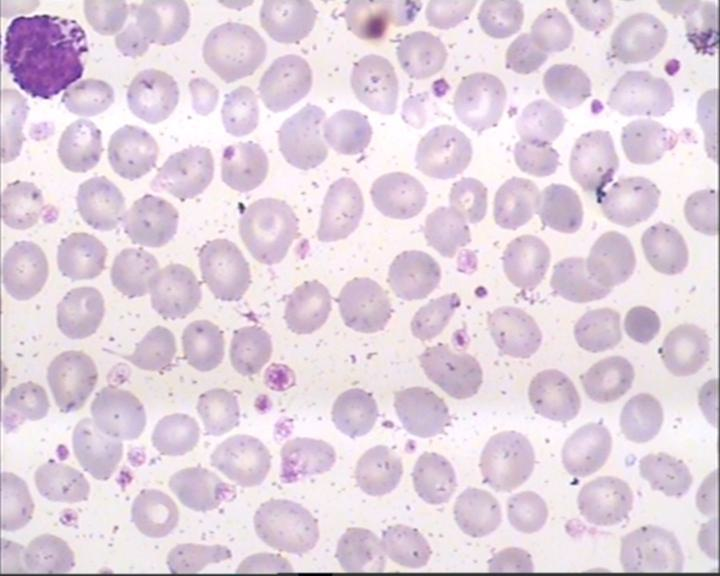baso: (0, 8, 91, 104)
